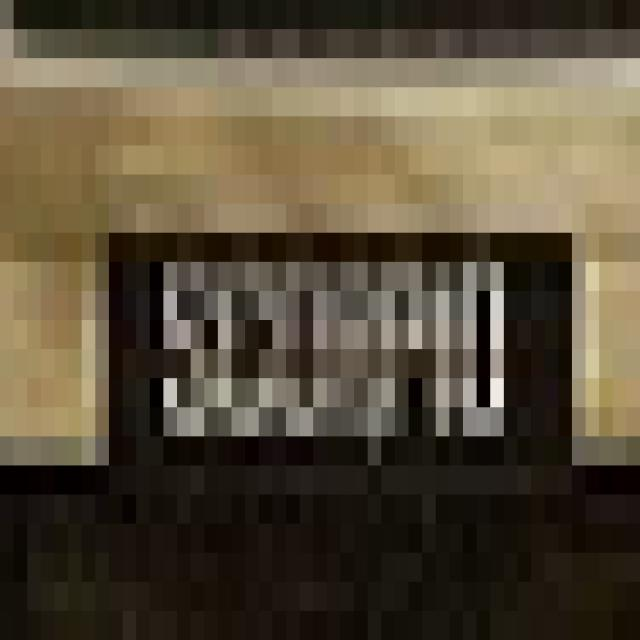0: (462, 240, 519, 456)
5: (157, 233, 214, 465)
C: (217, 228, 277, 460)
I: (437, 236, 459, 467)
P: (368, 236, 434, 460)
